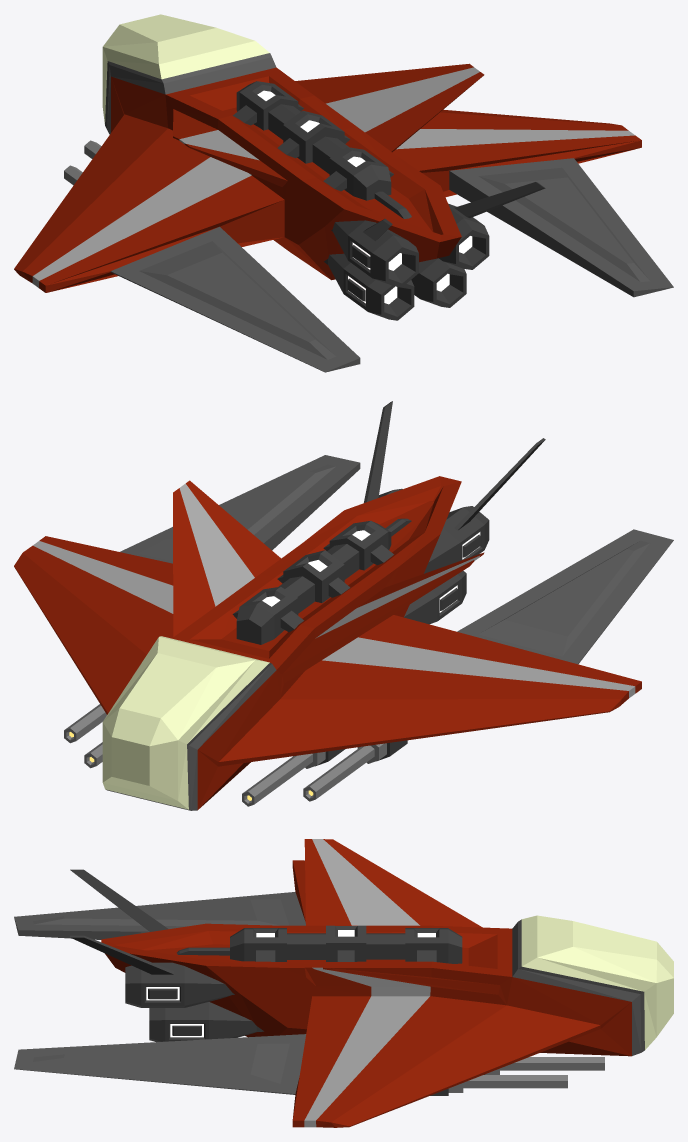
Rendered from ship.gltf.
3 renders of one model, top to bottom at view 1: azimuth 30°, elevation 25°; view 2: azimuth 150°, elevation 25°; view 3: azimuth 270°, elevation 25°, orthographic. The views are drawn at different scales.
Parts seen in each view (by area): view 1: Cube; view 2: Cube; view 3: Cube.
Boxes of the visible parts, x1,y1,x2,y2 form: Cube: (14, 14, 673, 372); Cube: (14, 401, 673, 810); Cube: (14, 839, 673, 1127).
Bounding box in the file's own units: 4.67 × 1.18 × 4.98.
2 materials, 1 textured.
